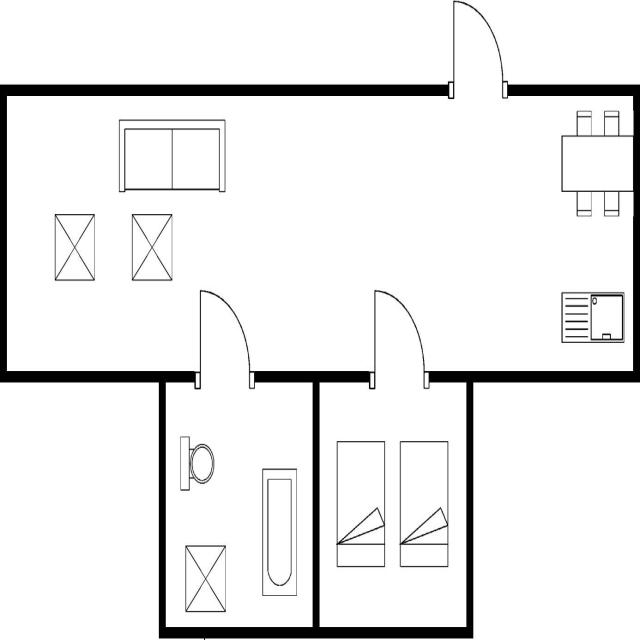bed: (332, 434, 388, 572), (397, 436, 450, 570)
coffee_table: (129, 208, 175, 284), (52, 209, 97, 285), (183, 542, 229, 616)
dining_table: (557, 104, 635, 222)
large_sink: (178, 432, 216, 494)
large_sofa: (115, 116, 229, 195)
sink: (558, 286, 626, 348)
tub: (258, 463, 299, 598)
